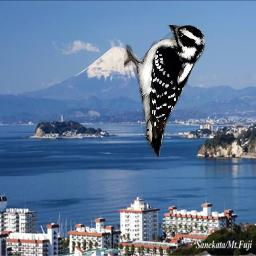Woodpecker: (124, 25, 205, 161)
